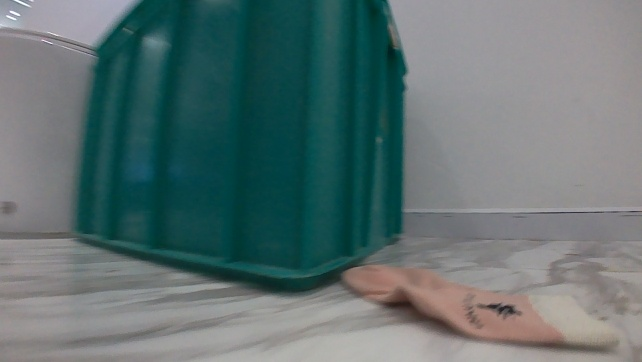socks: (339, 260, 621, 350)
toilet: (0, 27, 100, 239)
